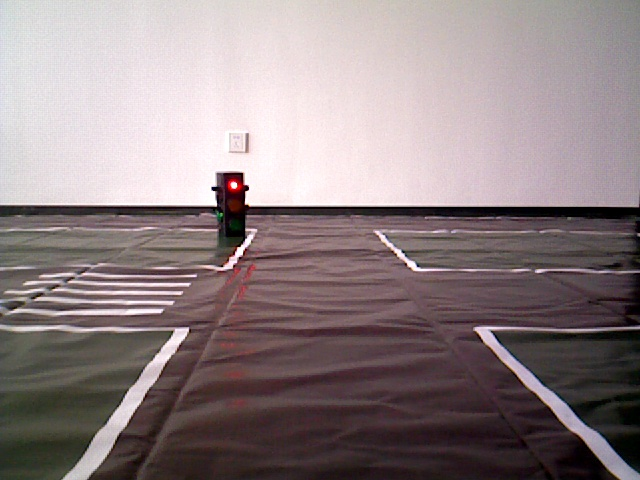red: (216, 173, 243, 238)
